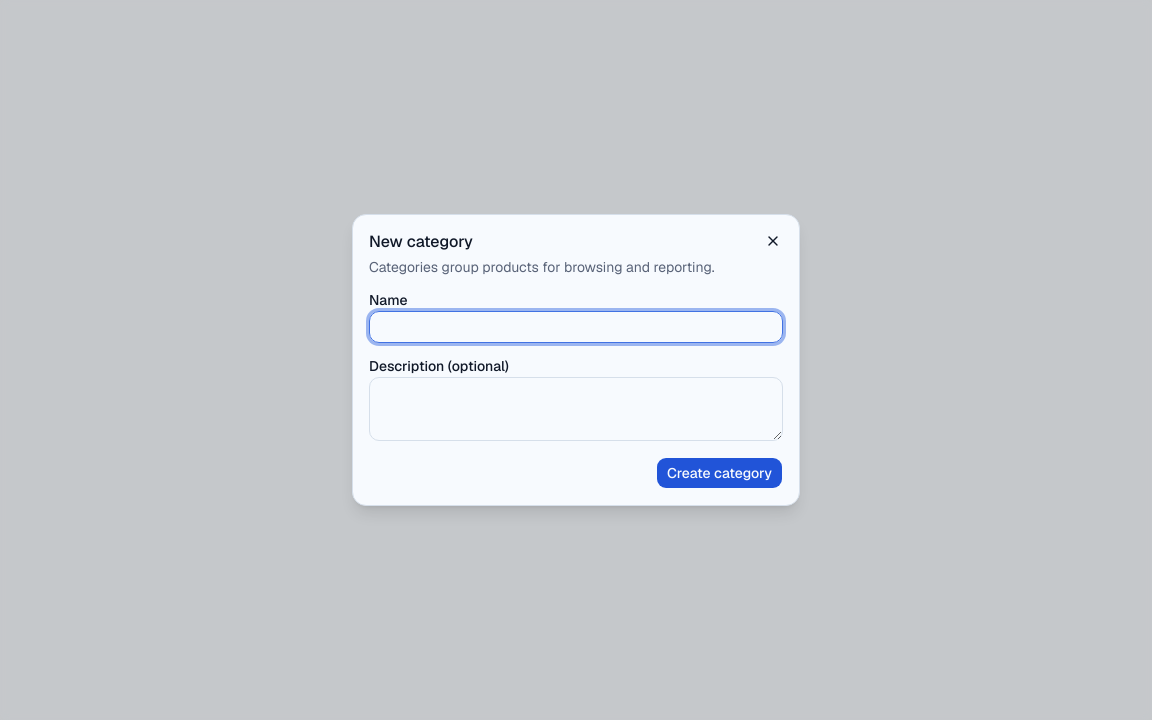
CategoryFormDialog (create) › renders UNIQUE_CONFLICT inline without losing the draft
Type "Garden" into the field labelled "Name" at (576, 327), box [369,311,783,343]
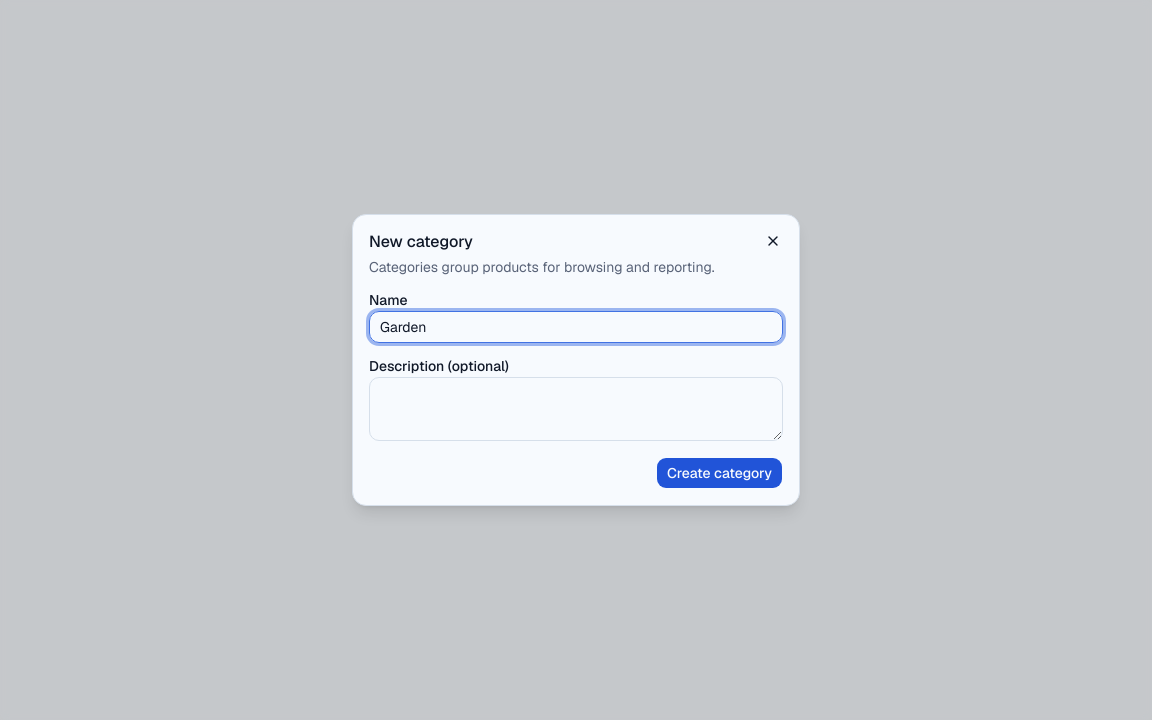
Click the button "Create category" at (719, 473), box [656,457,783,489]
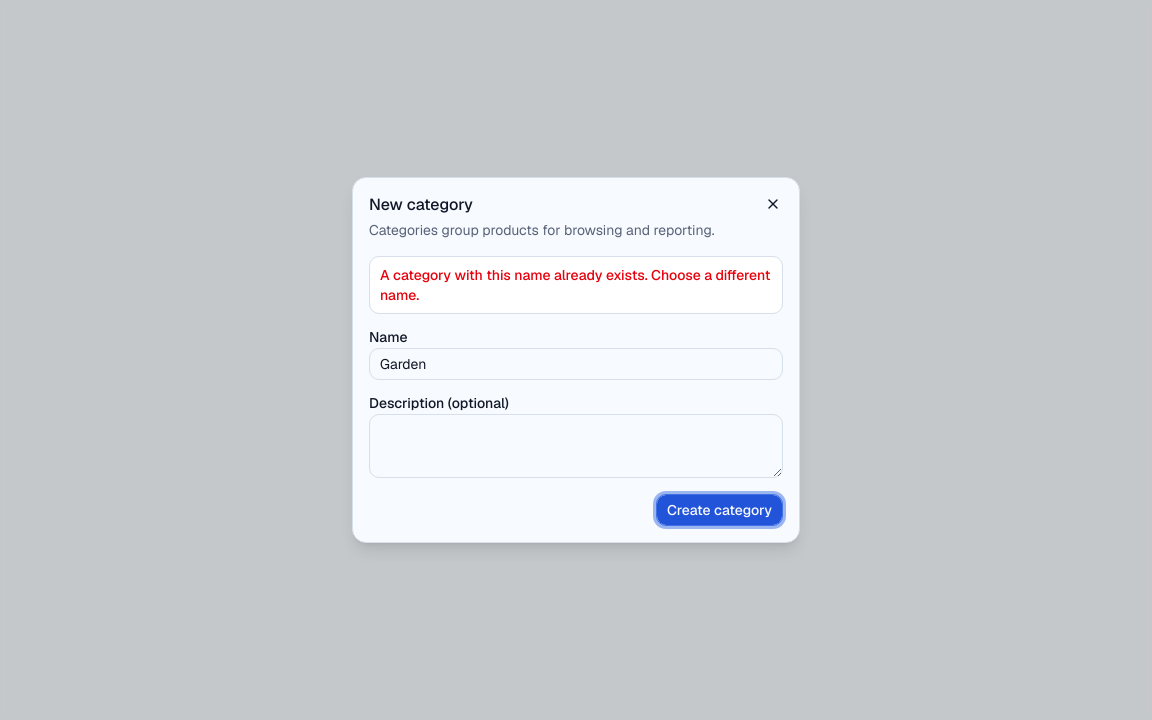
Expected: the message shows "already exists", [380,266,770,304]
